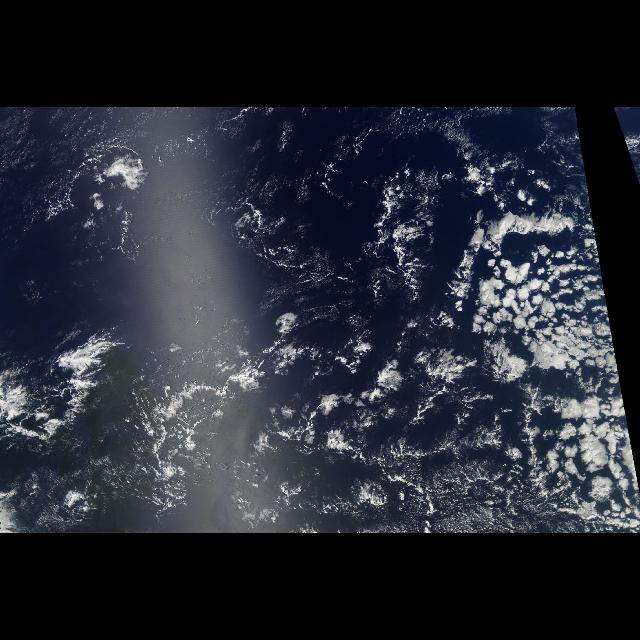Flower: (451, 199, 639, 519)
Sugar: (12, 110, 436, 524)
